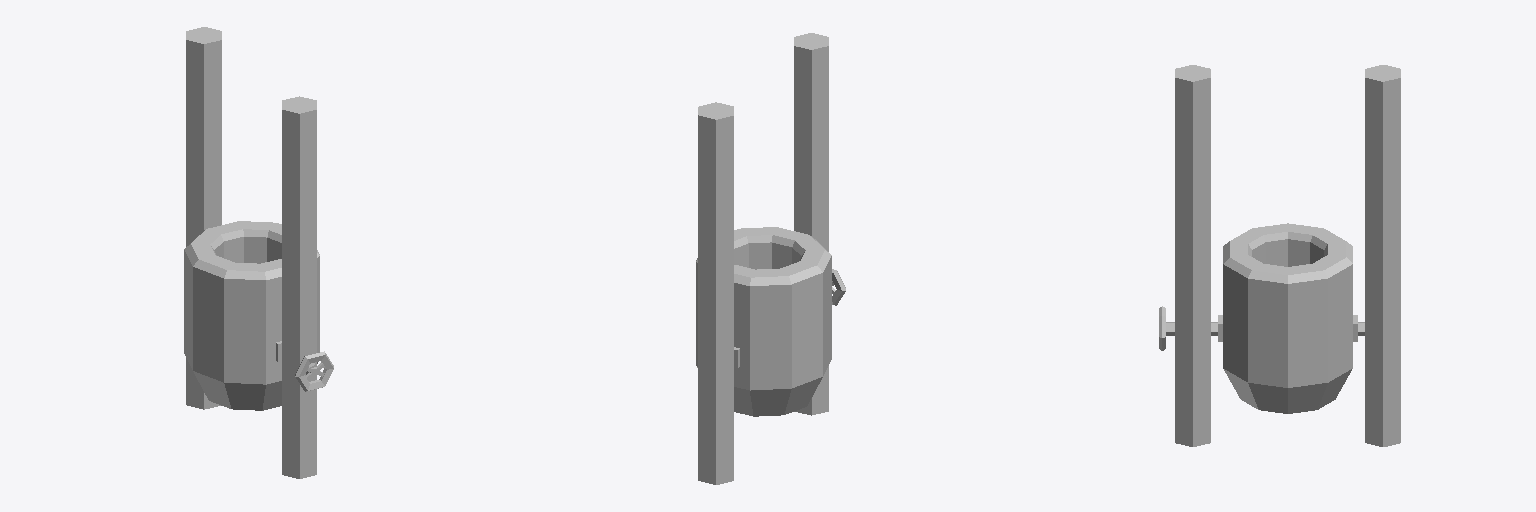
The model's file is Crucible_01.obj.
3 renders of one model, left to right at view 1: azimuth 30°, elevation 25°; view 2: azimuth 150°, elevation 25°; view 3: azimuth 270°, elevation 25°, orthographic.
Visible parts, largest first — view 1: pCylinder1, pCylinder2, pCylinder6, pCylinder5; view 2: pCylinder1, pCylinder6, pCylinder2; view 3: pCylinder1, pCylinder6, pCylinder2.
Boxes of the visible parts, box(x1,y1,x2,y2) form: pCylinder1: box(184, 221, 319, 410); pCylinder2: box(282, 96, 316, 478); pCylinder6: box(186, 27, 221, 409); pCylinder5: box(295, 351, 333, 391); pCylinder1: box(696, 227, 831, 416); pCylinder6: box(698, 102, 733, 484); pCylinder2: box(794, 33, 828, 415); pCylinder1: box(1223, 223, 1352, 413); pCylinder6: box(1365, 65, 1400, 446); pCylinder2: box(1175, 65, 1210, 446).
Size of the model in its own units: 206 by 607 by 365.